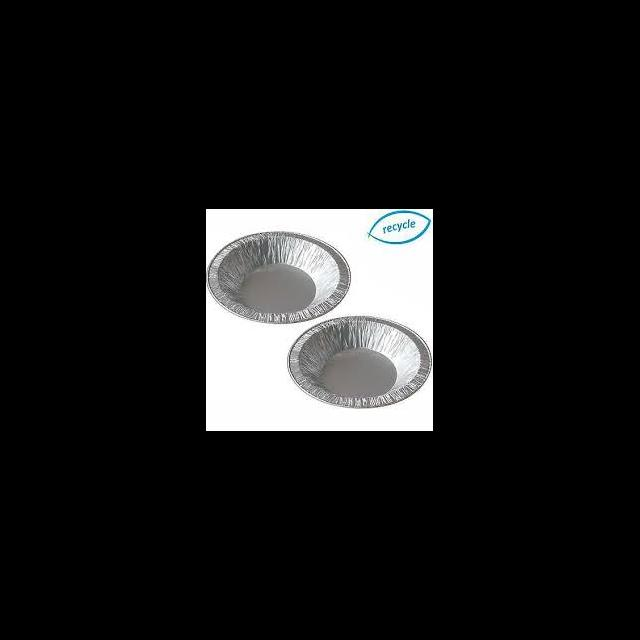metal: (286, 315, 432, 407), (207, 231, 351, 323)
